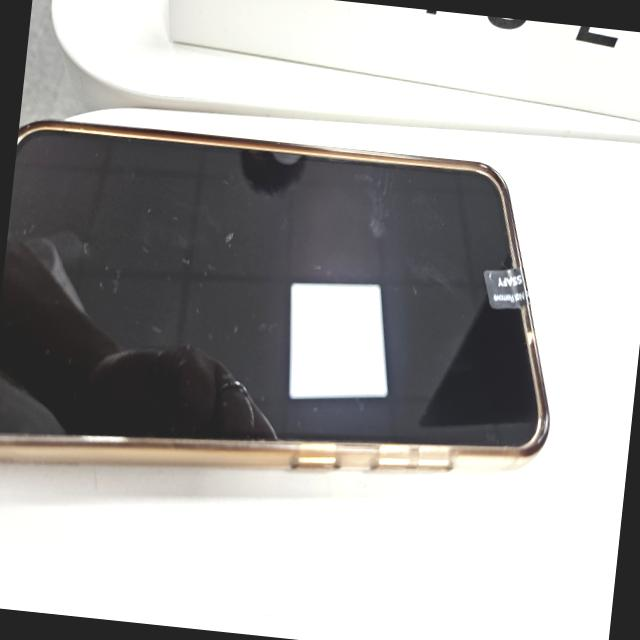phone: (0, 112, 578, 523)
sticker: (480, 265, 532, 312)
